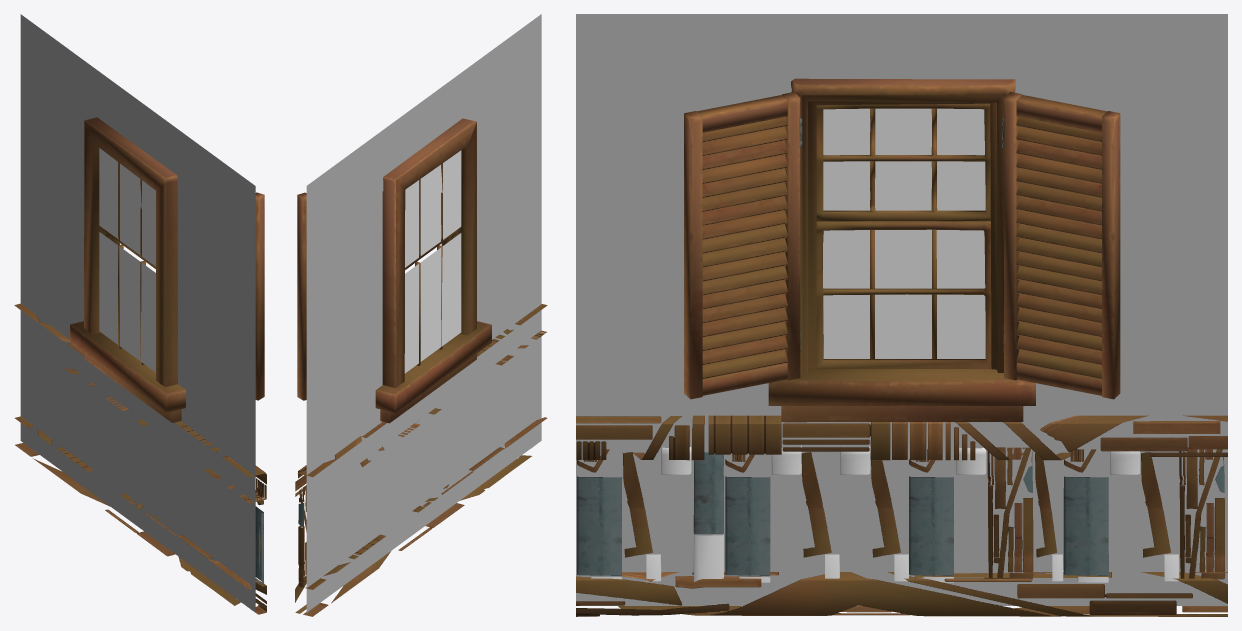
Rendered from Modular_Windows.fbx.
3 views of the same model, side by side, from view 1: azimuth 30°, elevation 25°; view 2: azimuth 150°, elevation 25°; view 3: azimuth 270°, elevation 25° (orthographic). The views are drawn at different scales.
Parts seen in each view (by area): view 1: windows_mular, windows.039, windows.004, windows.003, windows.001, windows.051; view 2: windows_mular, windows.039, windows.004, windows.003, windows.002, windows.051; view 3: windows_mular, windows.002, windows.001, windows.039, windows.004, windows.003, windows.051, windows.046.
Part boxes in pixels (<box>): windows_mular: <box>14,14,266,614</box>; windows.039: <box>70,117,185,422</box>; windows.004: <box>99,232,155,372</box>; windows.003: <box>99,148,155,266</box>; windows.001: <box>255,192,264,400</box>; windows.051: <box>104,230,155,364</box>; windows_mular: <box>295,14,547,616</box>; windows.039: <box>375,118,491,423</box>; windows.004: <box>404,233,461,373</box>; windows.003: <box>405,150,461,267</box>; windows.002: <box>297,192,306,400</box>; windows.051: <box>405,230,456,365</box>; windows_mular: <box>576,14,1227,616</box>; windows.002: <box>1004,92,1120,399</box>; windows.001: <box>684,92,800,399</box>; windows.039: <box>768,78,1035,421</box>; windows.004: <box>823,229,985,358</box>; windows.003: <box>823,108,985,210</box>; windows.051: <box>816,220,991,368</box>; windows.046: <box>816,103,990,221</box>.
Size of the model in its own units: 81.72 by 478 by 474.
